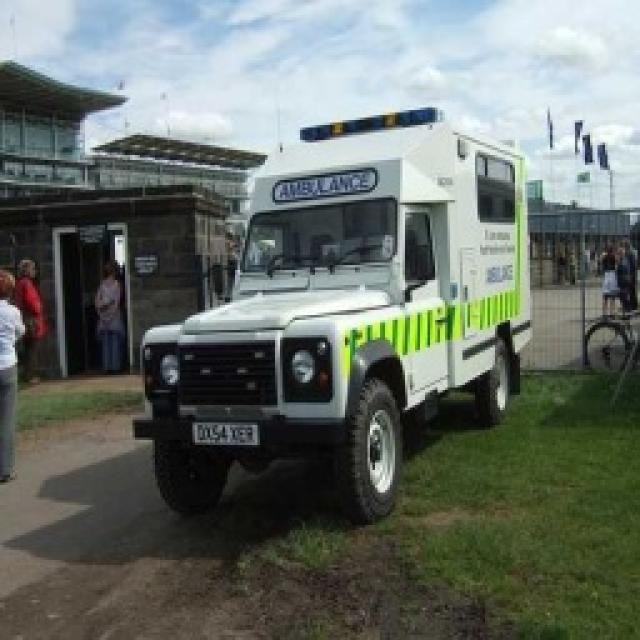emergency-vehicle: (133, 105, 532, 516)
